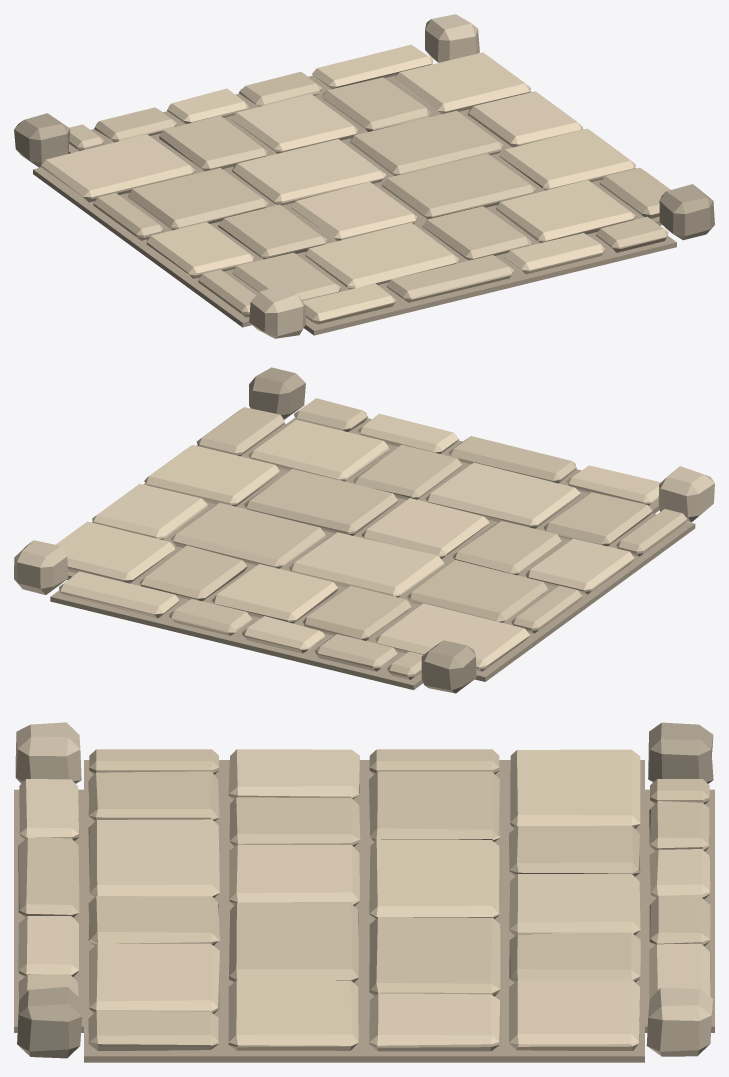
Rendered from path_junction_x.glb.
3 views of the same model, one above another, from view 1: azimuth 30°, elevation 25°; view 2: azimuth 150°, elevation 25°; view 3: azimuth 270°, elevation 25° (orthographic). The views are drawn at different scales.
Visible parts, largest first — view 1: path_junction_x; view 2: path_junction_x; view 3: path_junction_x.
Boxes of the visible parts, left/top/right/bottom form: path_junction_x: left=14, top=14, right=714, bottom=338; path_junction_x: left=14, top=367, right=714, bottom=693; path_junction_x: left=14, top=722, right=714, bottom=1062.
Size of the model in its own units: 2 by 0.1717 by 2.
